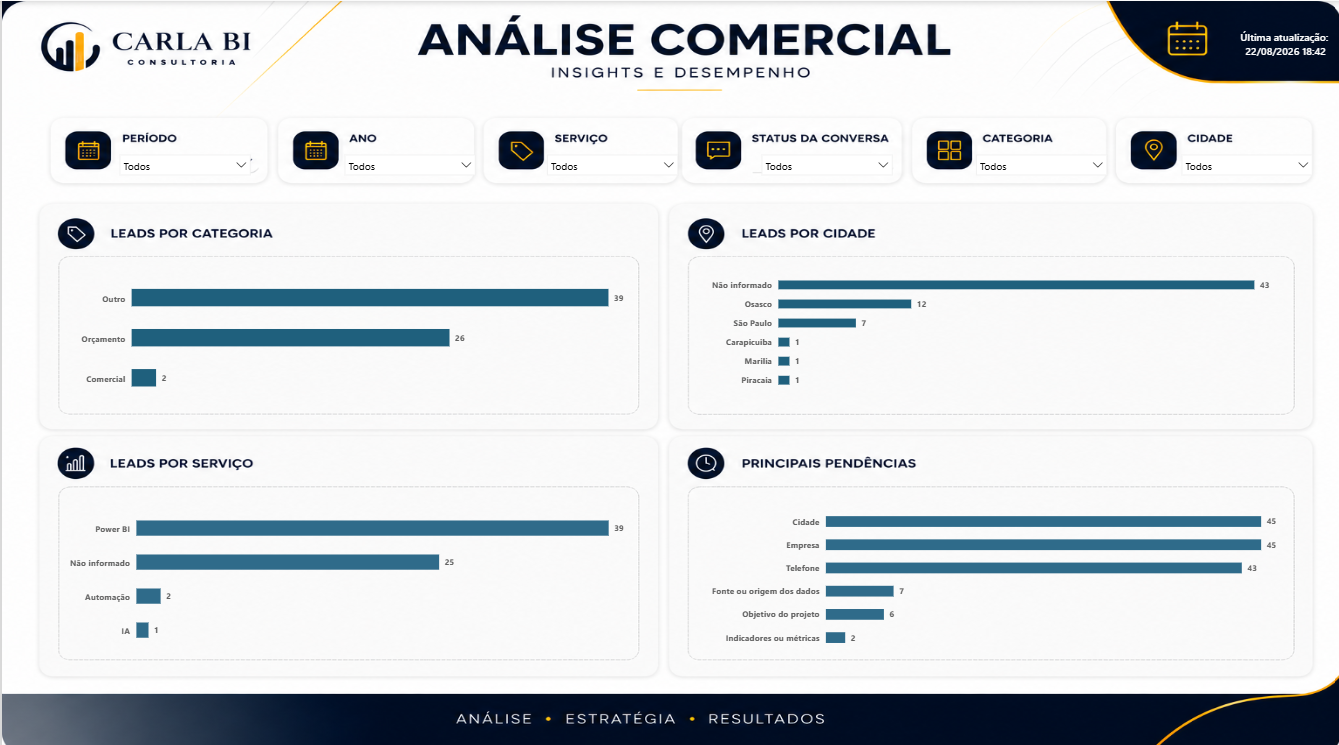

Layout of this report page (visuals, bound fields, positions):
{"tool":"powerbi","page":{"name":"Página 1","canvas":[1920,1080],"ordinal":1},"visuals":[{"type":"barChart","fields":{"Category":["fAtendimentos.Categoria"],"Y":["Medidas_CRM.Total Leads"]},"box":[97.5,367.5,810,227.5],"z":0},{"type":"barChart","fields":{"Category":["fAtendimentos.cidade"],"Y":["Medidas_CRM.Total Leads"]},"box":[1000,367.5,842.5,210],"z":1},{"type":"barChart","fields":{"Category":["fAtendimentos.Serviço"],"Y":["Medidas_CRM.Total Leads"]},"box":[80,702.5,827.5,247.5],"z":2},{"type":"barChart","fields":{"Category":["TiposPendencia.Pendencia"],"Y":["Medidas_CRM.Total Pendencias"]},"box":[1000,702.5,842.5,247.5],"z":3},{"type":"card","fields":{"Values":["Medidas_CRM.Última Atualização"]},"box":[1757.5,22.5,162.5,82.5],"z":4},{"type":"slicer","fields":{"Values":["Calendario.Mes"]},"box":[162.5,215,197.5,50],"z":5},{"type":"slicer","fields":{"Values":["Calendario.Ano"]},"box":[485,215,197.5,50],"z":6},{"type":"slicer","fields":{"Values":["fAtendimentos.Serviço"]},"box":[775,215,197.5,50],"z":7},{"type":"slicer","fields":{"Values":["fAtendimentos.Status_Conversa"]},"box":[1082.5,215,197.5,50],"z":8},{"type":"slicer","fields":{"Values":["fAtendimentos.Categoria"]},"box":[1390,215,197.5,50],"z":9},{"type":"slicer","fields":{"Values":["fAtendimentos.cidade"]},"box":[1685,215,197.5,50],"z":10}]}

Visuals, with their boxes in screenshot pixels (x1, y1, x2, y2), scaled from the page's 1920x1080 canvas onto the 1339x745 screenshot:
barChart - fAtendimentos.Categoria x Medidas_CRM.Total Leads: box=[68, 254, 633, 410]
barChart - fAtendimentos.cidade x Medidas_CRM.Total Leads: box=[697, 254, 1285, 398]
barChart - fAtendimentos.Serviço x Medidas_CRM.Total Leads: box=[56, 485, 633, 655]
barChart - TiposPendencia.Pendencia x Medidas_CRM.Total Pendencias: box=[697, 485, 1285, 655]
card - Medidas_CRM.Última Atualização: box=[1226, 16, 1338, 72]
slicer - Calendario.Mes: box=[113, 148, 251, 183]
slicer - Calendario.Ano: box=[338, 148, 476, 183]
slicer - fAtendimentos.Serviço: box=[540, 148, 678, 183]
slicer - fAtendimentos.Status_Conversa: box=[755, 148, 893, 183]
slicer - fAtendimentos.Categoria: box=[969, 148, 1107, 183]
slicer - fAtendimentos.cidade: box=[1175, 148, 1313, 183]
